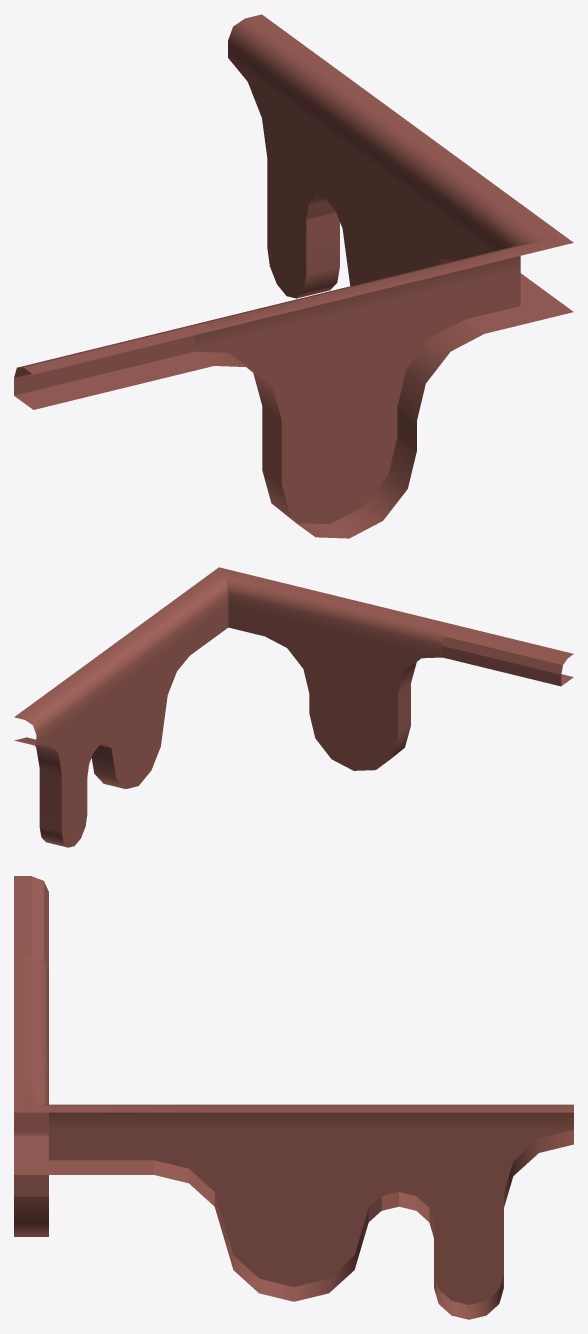
The model's file is SM_drop_L_1.fbx.
3 views of the same model, one above another, from view 1: azimuth 30°, elevation 25°; view 2: azimuth 150°, elevation 25°; view 3: azimuth 270°, elevation 25° (orthographic). The views are drawn at different scales.
Visible parts, largest first — view 1: SM_drop_L_1; view 2: SM_drop_L_1; view 3: SM_drop_L_1.
Part boxes in pixels (left/top/right/bottom): SM_drop_L_1: left=14, top=14, right=573, bottom=538; SM_drop_L_1: left=14, top=567, right=573, bottom=847; SM_drop_L_1: left=14, top=876, right=573, bottom=1319.
Size of the model in its own units: 400 by 170 by 400.
